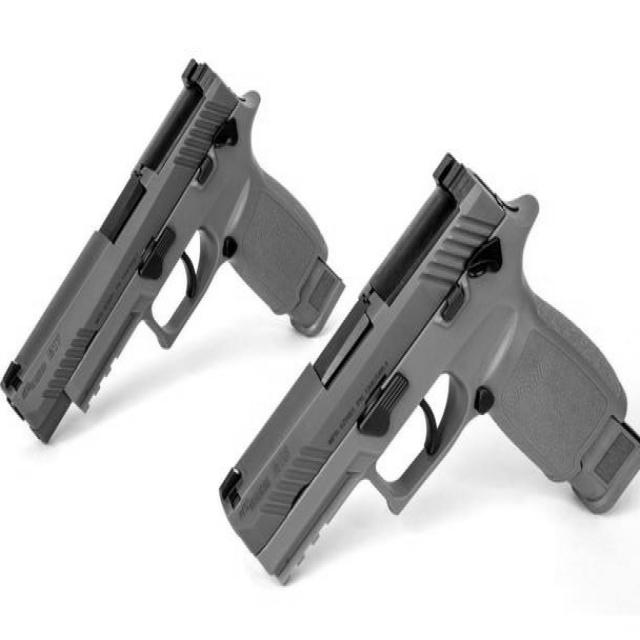Weapon: (220, 154, 640, 581), (0, 59, 342, 440)
